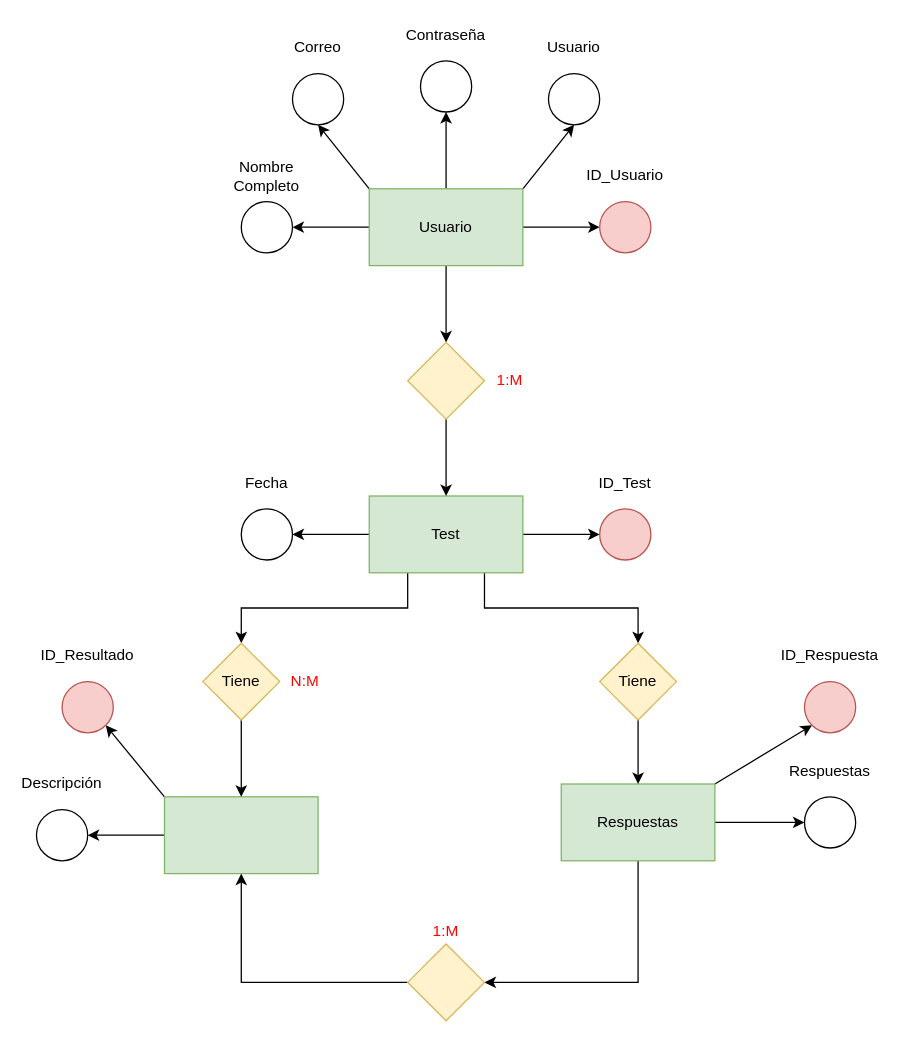
Some shapes in this 901 by 1043 pixel diagram are drawn without their labels. The shapes that lost their labels are listed below. From the top down, each one's centre as x and y in pixels, then its label:
pixel 445 380: Realiza
pixel 240 835: Resultado
pixel 445 982: Dan
